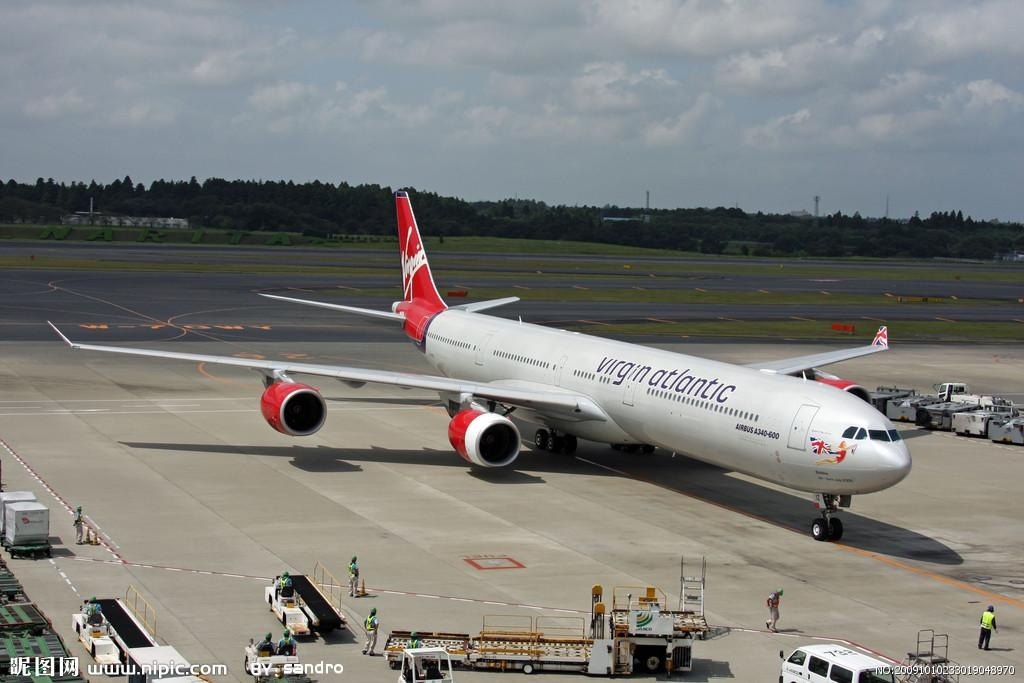airplane: (45, 190, 932, 544)
